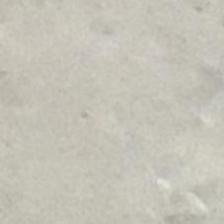Non_Crack: (47, 21, 208, 185)
